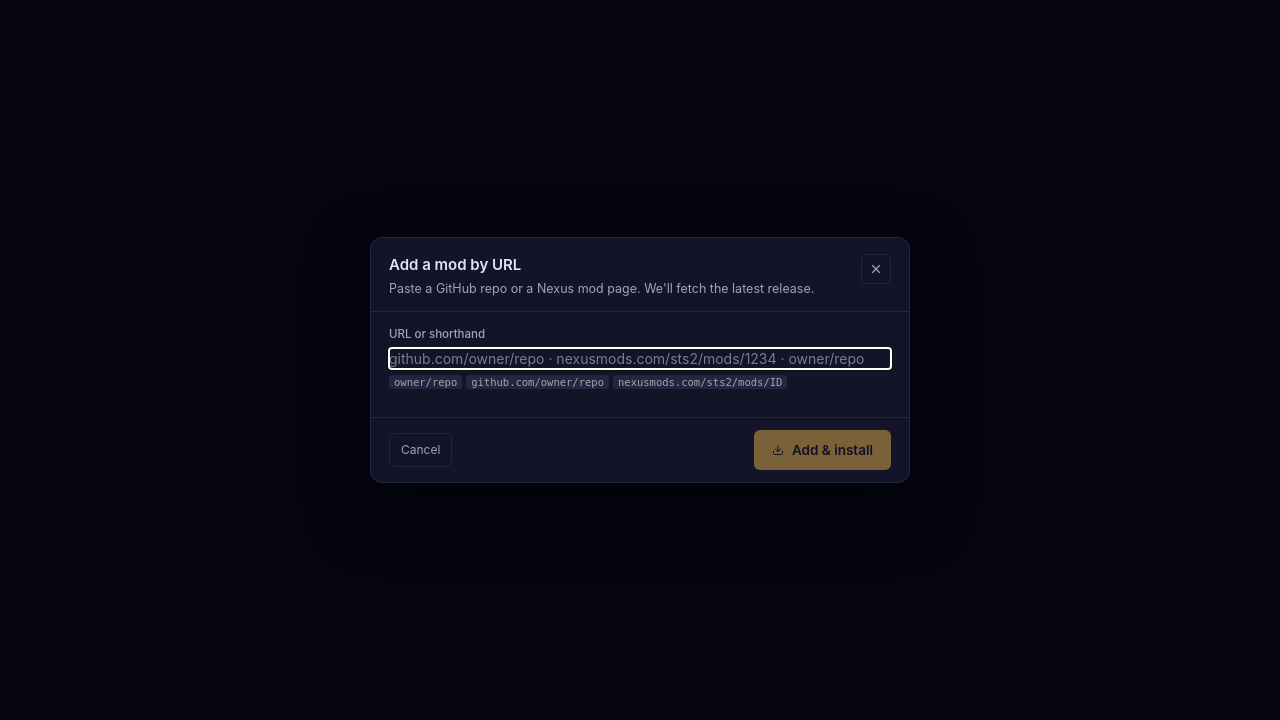
<QuickAddModal> › detects foo/bar as foo/bar pill
Type "foo/bar" into the field with placeholder "github.com/owner/repo". click: {"x": 640, "y": 359}
box: [389,348,891,369]
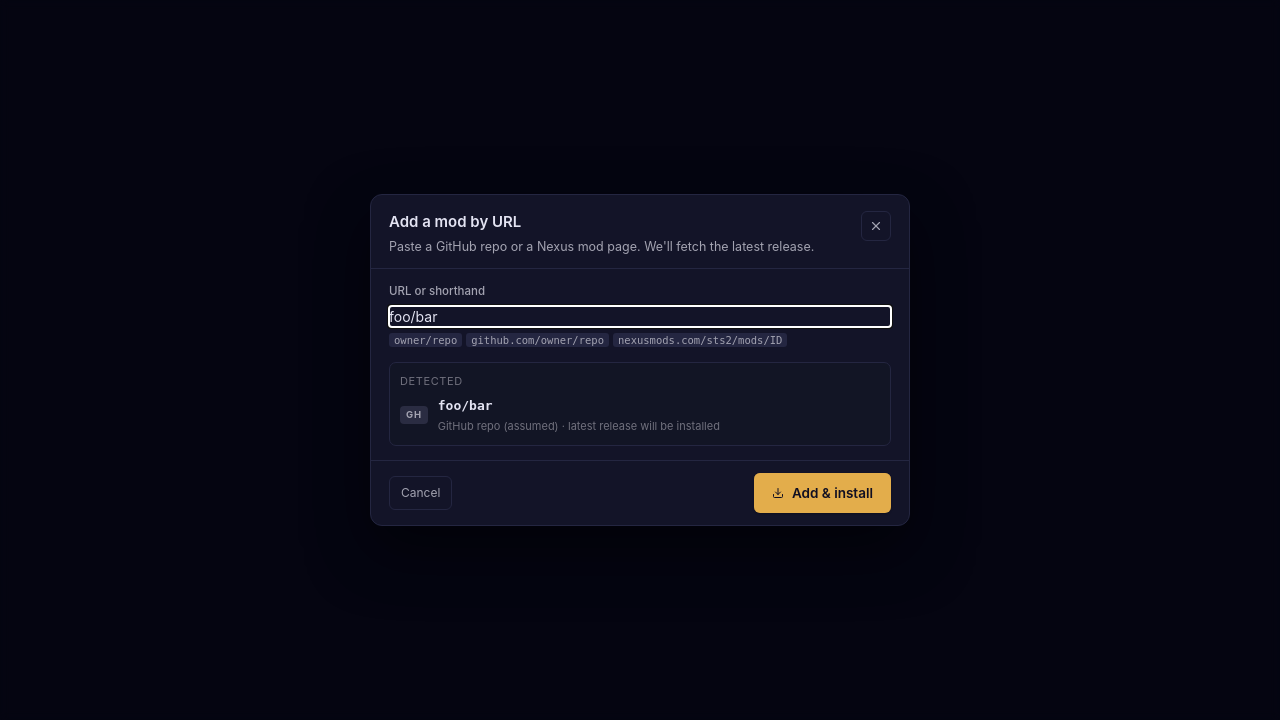
Expected: the text "foo/bar" is shown, [438,398,493,413]
Expected: the text "GH" is shown, [400,406,428,424]
